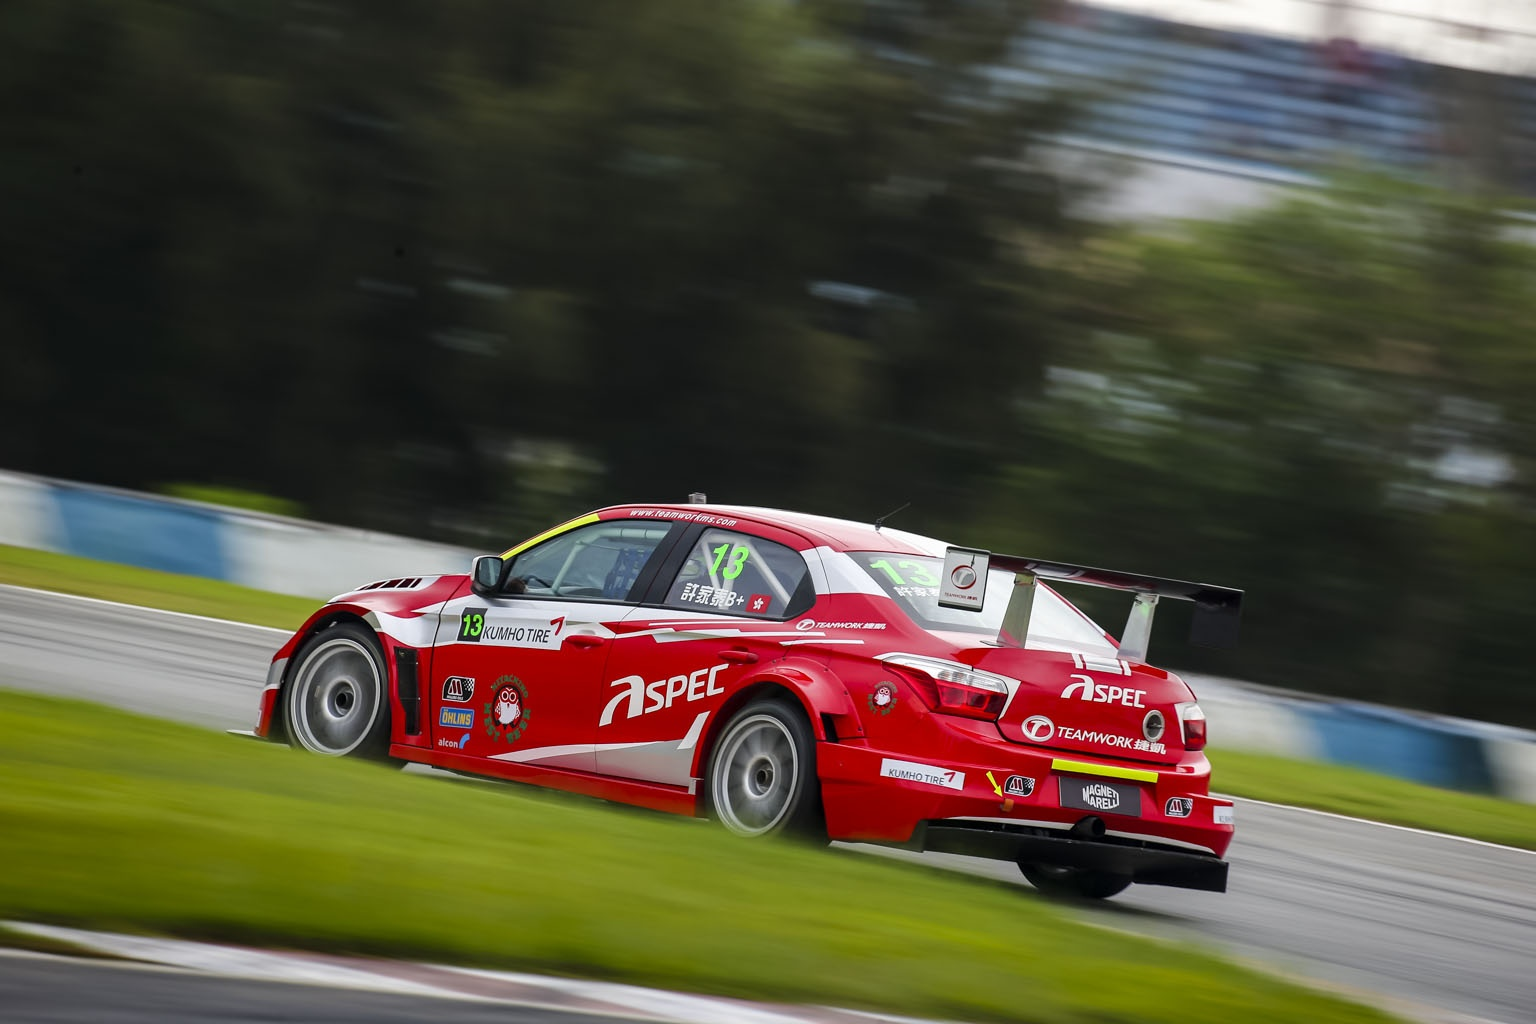racing car: (235, 454, 1271, 897)
